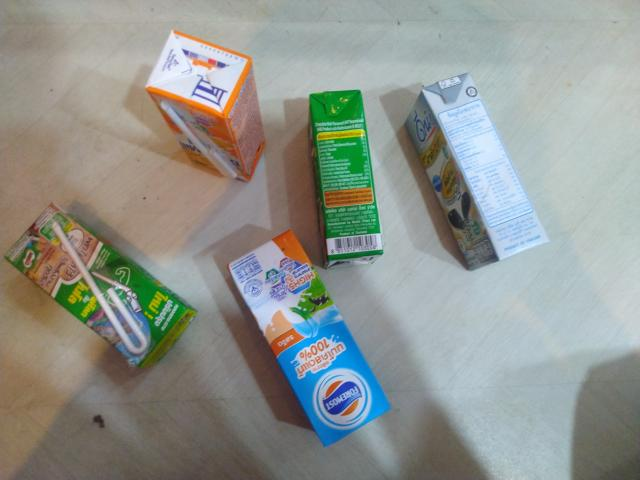drink_box: (382, 45, 567, 283), (222, 219, 406, 450), (143, 23, 284, 187), (305, 84, 396, 269)
